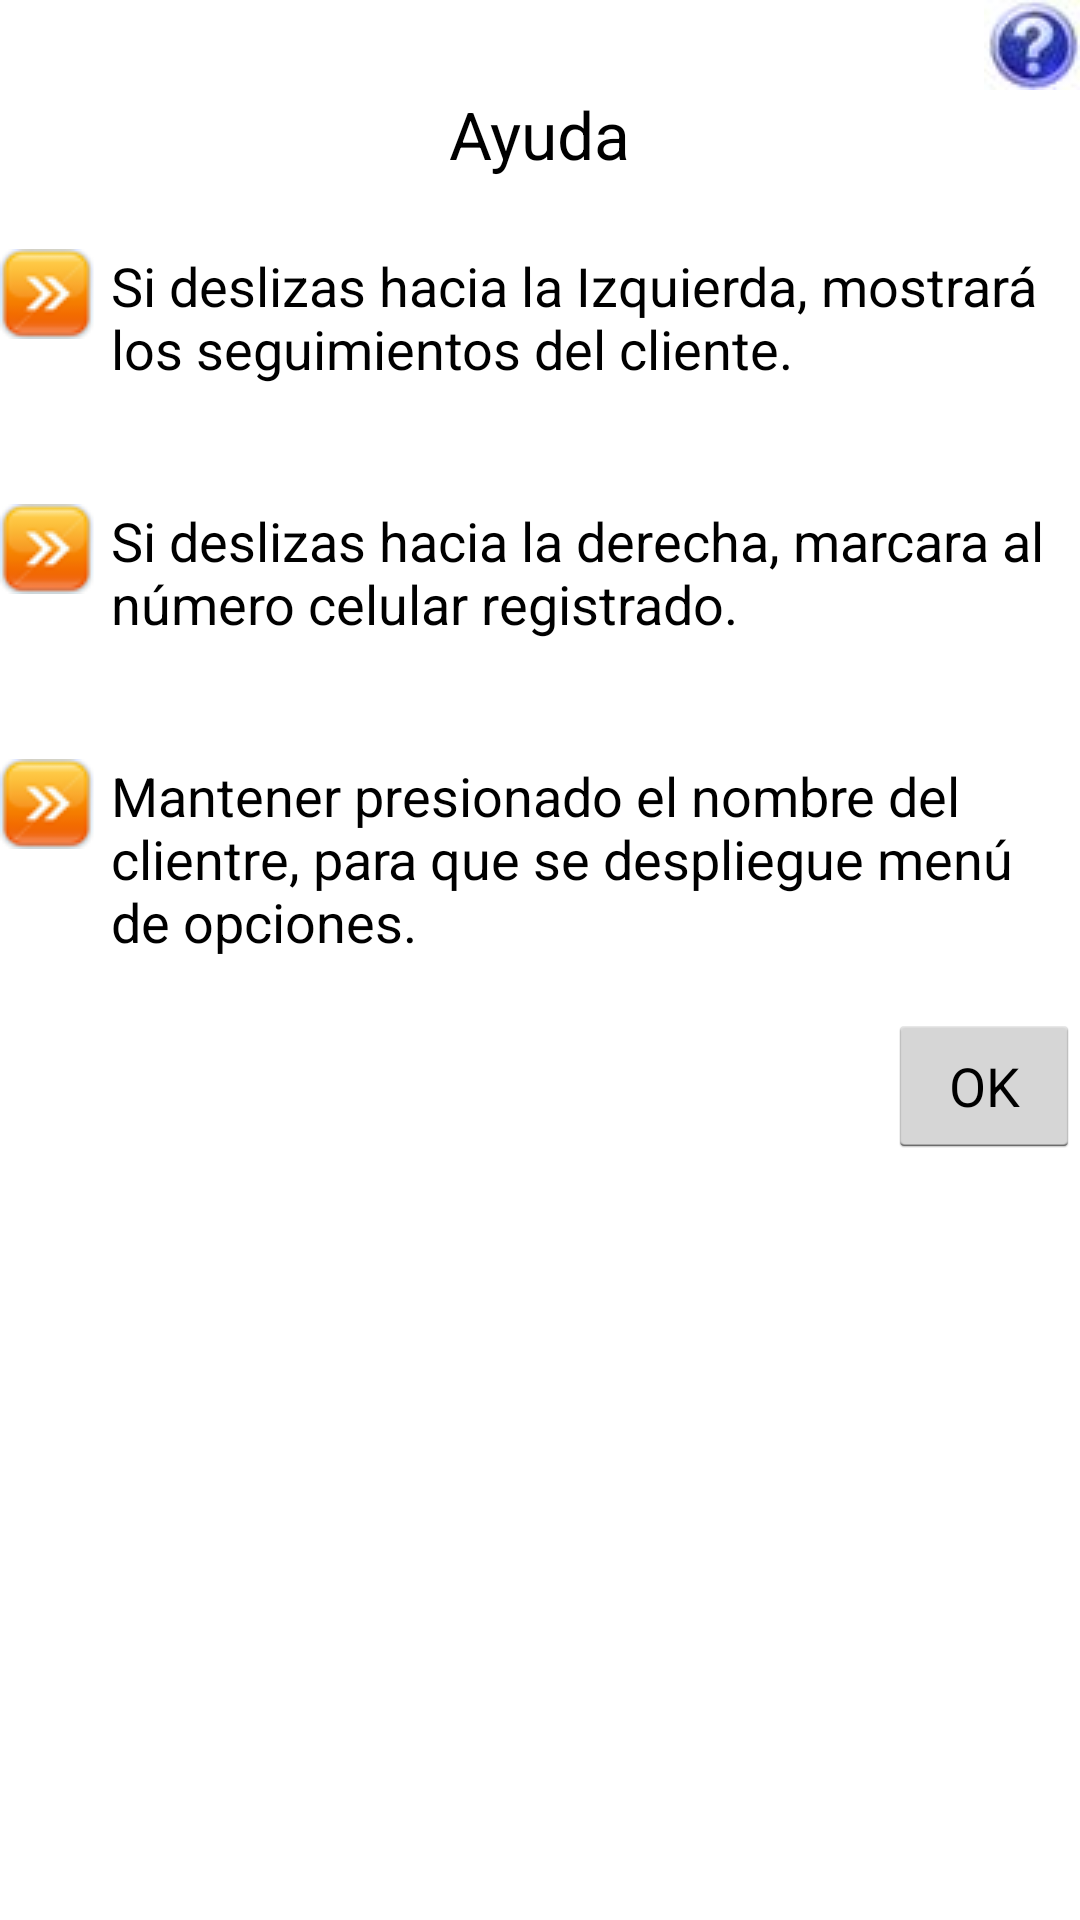

Screen size 1080×1920. Icon name, then its center in pixels as (x=x, y=y):
ayuda: (x=1033, y=46)
